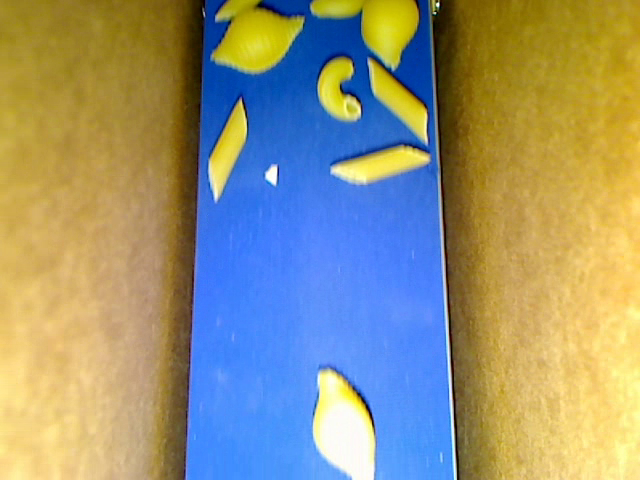elbow: (317, 56, 361, 121)
penne: (368, 58, 428, 142), (206, 96, 248, 202), (331, 144, 432, 185)
shell: (314, 367, 377, 479), (212, 7, 304, 75), (361, 1, 419, 70)
